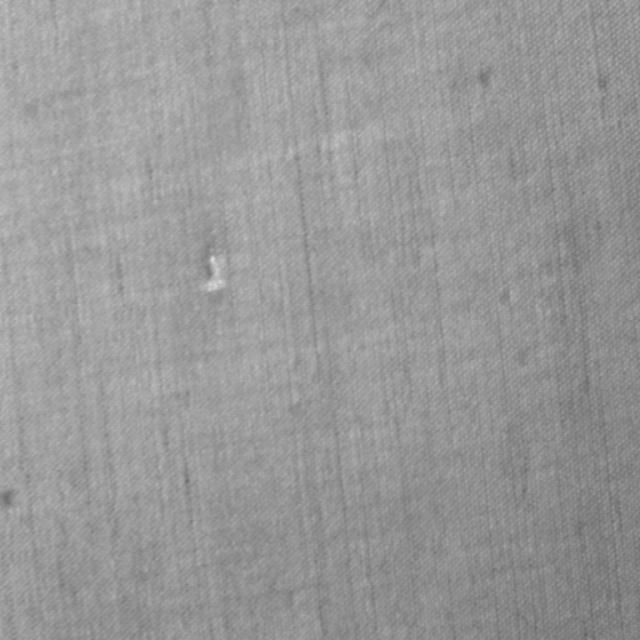hole: (202, 249, 226, 301)
